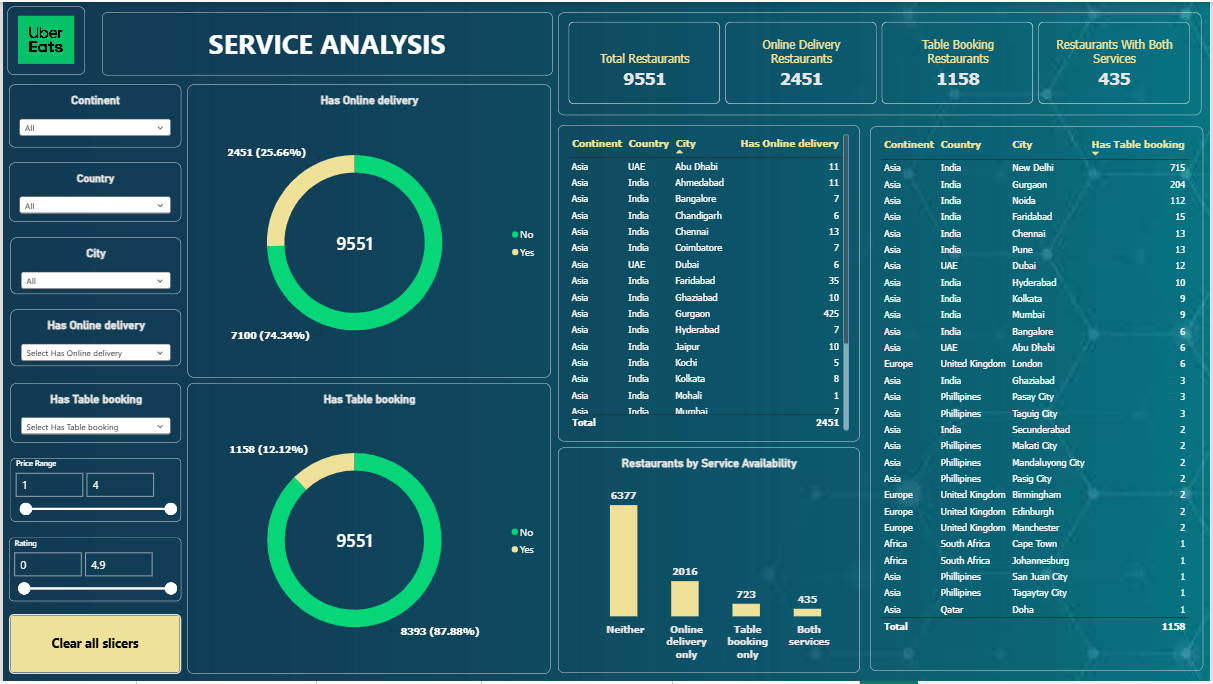

This screenshot's page, from the dashboard's own definition file:
{"tool":"powerbi","page":{"name":"Service Analysis","canvas":[1920,1080],"ordinal":3},"visuals":[{"type":"image","box":[0,0,1920,1080],"z":0},{"type":"image","box":[8.3,8.3,123.3,108.3],"z":1000},{"type":"listSlicer","fields":{"Values":["Append1.Continent Hierarchy.Continent"]},"box":[10,131.4,274.3,100],"z":2000},{"type":"listSlicer","fields":{"Values":["Append1.Continent Hierarchy.Country"]},"box":[10,255.7,274.3,94.3],"z":3000},{"type":"listSlicer","fields":{"Values":["Append1.Continent Hierarchy.City"]},"box":[12.9,375.7,271.4,90],"z":4000},{"type":"listSlicer","fields":{"Values":["KPIs.Has Online delivery"]},"box":[12.9,490,271.4,90],"z":5000},{"type":"listSlicer","fields":{"Values":["KPIs.Has Table booking"]},"box":[12.5,605,271.2,95],"z":6000},{"type":"slicer","title":"Rating","fields":{"Values":["KPIs.Price range"]},"box":[12.9,725.7,271.4,101.4],"z":7000},{"type":"slicer","title":"Rating","fields":{"Values":["KPIs.Aggregate rating"]},"box":[10,852.9,274.3,101.4],"z":8000},{"type":"actionButton","box":[10,972.5,273.8,95],"z":9000},{"type":"textbox","box":[156.7,16.7,716.7,100],"z":10000},{"type":"cardVisual","fields":{"Data":["Rest Measures.Total Restaurants","Rest Measures.Online Delivery Restaurants","Rest Measures.Table Booking Restaurants","Rest Measures.Both Online Delivery and Table Booking"]},"box":[883.3,16.7,1023.3,163.3],"z":11000},{"type":"clusteredColumnChart","fields":{"Category":["KPIs.Service Availability"],"Y":["CountNonNull(KPIs.Restaurant ID)"]},"box":[882.2,708.9,480,358.9],"z":12000},{"type":"donutChart","title":"Has Online delivery","fields":{"Category":["KPIs.Has Online delivery"],"Y":["CountNonNull(KPIs.Has Online delivery)"]},"box":[294,132,578,466],"z":13000},{"type":"donutChart","title":"Has Table booking","fields":{"Category":["KPIs.Has Table booking"],"Y":["CountNonNull(KPIs.Has Table booking)"]},"box":[294.2,605,577.5,462.5],"z":14000},{"type":"tableEx","fields":{"Values":["Append1.Continent Hierarchy.Continent","Append1.Continent Hierarchy.Country","Append1.Continent Hierarchy.City","KPIs.Has Online delivery"]},"box":[883.3,196.7,480,503.3],"z":15000},{"type":"tableEx","fields":{"Values":["Append1.Continent Hierarchy.Continent","Append1.Continent Hierarchy.Country","Append1.Continent Hierarchy.City","KPIs.Has Table booking"]},"box":[1378,198,530,866],"z":16000}]}

Visuals, with their boxes in screenshot pixels (x1, y1, x2, y2), scaled from the page's 1920x1080 canvas onto the 1213x684 screenshot:
image: (x1=0, y1=0, x2=1212, y2=683)
image: (x1=5, y1=5, x2=83, y2=74)
listSlicer - Append1.Continent Hierarchy.Continent: (x1=6, y1=83, x2=180, y2=147)
listSlicer - Append1.Continent Hierarchy.Country: (x1=6, y1=162, x2=180, y2=222)
listSlicer - Append1.Continent Hierarchy.City: (x1=8, y1=238, x2=180, y2=295)
listSlicer - KPIs.Has Online delivery: (x1=8, y1=310, x2=180, y2=367)
listSlicer - KPIs.Has Table booking: (x1=8, y1=383, x2=179, y2=443)
"Rating" slicer: (x1=8, y1=460, x2=180, y2=524)
"Rating" slicer: (x1=6, y1=540, x2=180, y2=604)
actionButton: (x1=6, y1=616, x2=179, y2=676)
textbox: (x1=99, y1=11, x2=552, y2=74)
cardVisual - Rest Measures.Total Restaurants x Rest Measures.Online Delivery Restaurants: (x1=558, y1=11, x2=1205, y2=114)
clusteredColumnChart - KPIs.Service Availability x CountNonNull(KPIs.Restaurant ID): (x1=557, y1=449, x2=861, y2=676)
"Has Online delivery" donutChart: (x1=186, y1=84, x2=551, y2=379)
"Has Table booking" donutChart: (x1=186, y1=383, x2=551, y2=676)
tableEx - Append1.Continent Hierarchy.Continent x Append1.Continent Hierarchy.Country: (x1=558, y1=125, x2=861, y2=443)
tableEx - Append1.Continent Hierarchy.Continent x Append1.Continent Hierarchy.Country: (x1=871, y1=125, x2=1205, y2=674)
